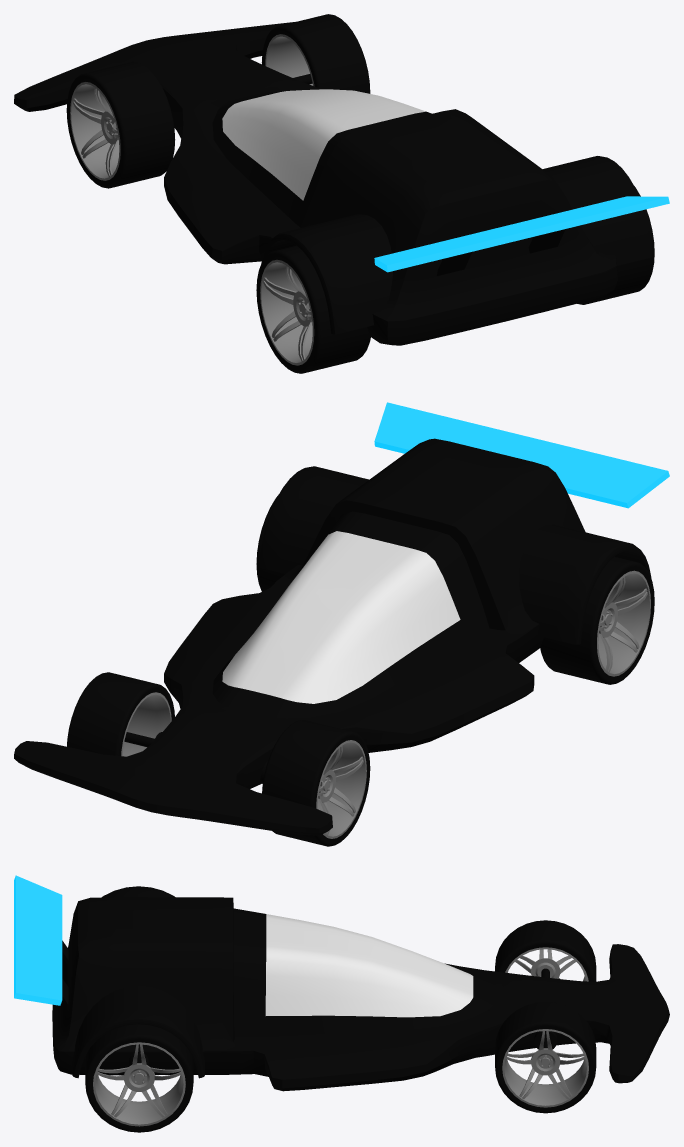
File: SM_4WheeledCar.fbx
3 views of the same model, one above another, from view 1: azimuth 30°, elevation 25°; view 2: azimuth 150°, elevation 25°; view 3: azimuth 270°, elevation 25° (orthographic). The views are drawn at different scales.
Parts seen in each view (by area): view 1: Body, Back-Wheels.002, Back-Wheels.001; view 2: Body, Back-Wheels.002, Back-Wheels.001; view 3: Body, Back-Wheels.002, Back-Wheels.001.
Part boxes in pixels (x1=…): Body: x1=14, y1=22, x2=669, y2=345; Back-Wheels.002: x1=66, y1=14, x2=370, y2=188; Back-Wheels.001: x1=256, y1=186, x2=654, y2=373; Body: x1=14, y1=402, x2=669, y2=835; Back-Wheels.002: x1=67, y1=672, x2=370, y2=846; Back-Wheels.001: x1=256, y1=494, x2=654, y2=684; Body: x1=14, y1=875, x2=669, y2=1091; Back-Wheels.002: x1=495, y1=920, x2=596, y2=1113; Back-Wheels.001: x1=85, y1=1024, x2=193, y2=1132.
Bounding box in the file's own units: 207 × 97.96 × 406.
